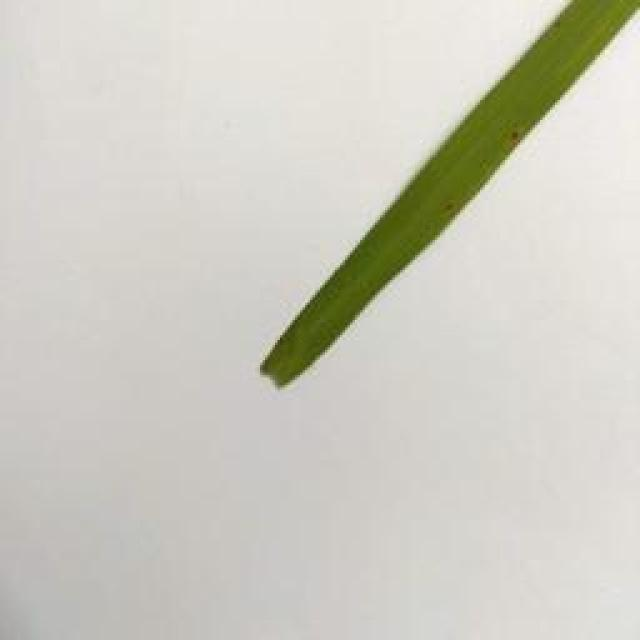Brown_Spot: (432, 198, 457, 218), (508, 129, 519, 145)
